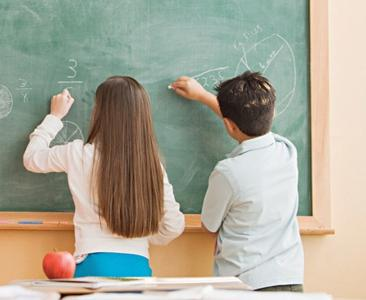person: (171, 72, 307, 293)
